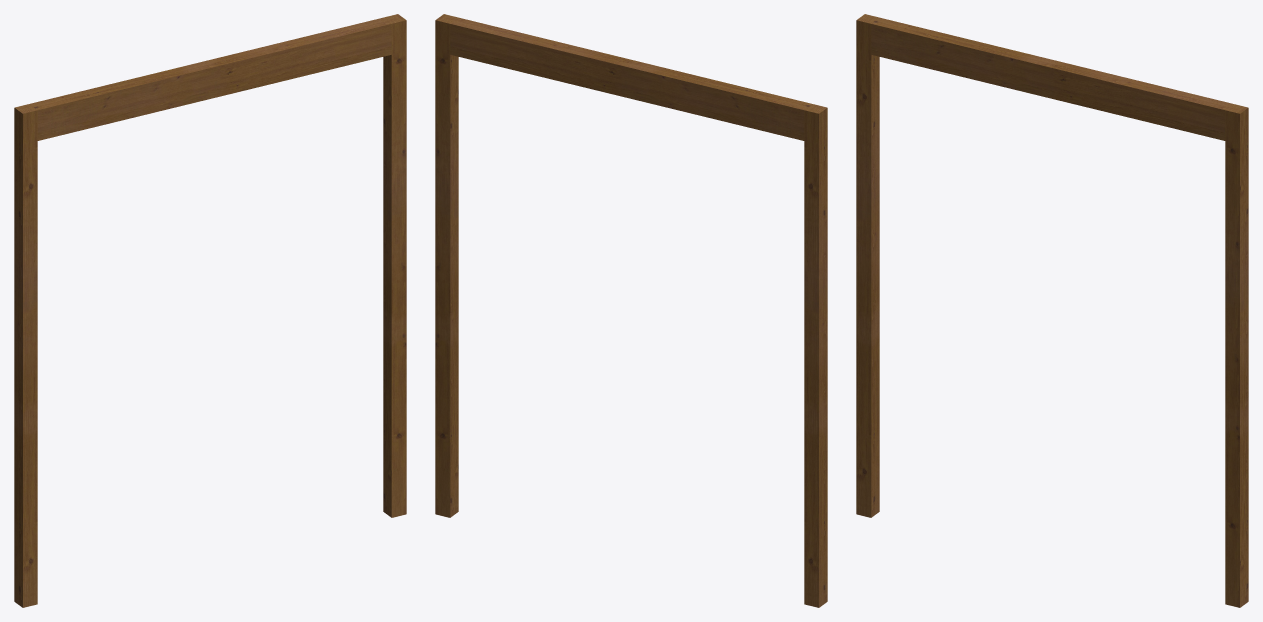
Rendered from es-flame_h2400-w1800_naturalpine.fbx.
3 views of the same model, side by side, from view 1: azimuth 30°, elevation 25°; view 2: azimuth 150°, elevation 25°; view 3: azimuth 330°, elevation 25° (orthographic).
Parts seen in each view (by area): view 1: es-flame_h2400-w1800_naturalpine; view 2: es-flame_h2400-w1800_naturalpine; view 3: es-flame_h2400-w1800_naturalpine.
Part boxes in pixels (x1,y1,x2,y2): es-flame_h2400-w1800_naturalpine: (14,14,406,607); es-flame_h2400-w1800_naturalpine: (435,14,827,607); es-flame_h2400-w1800_naturalpine: (856,14,1248,607).
Size of the model in its own units: 195 by 240 by 7.5.
Materials: 1 (1 with a texture image).
